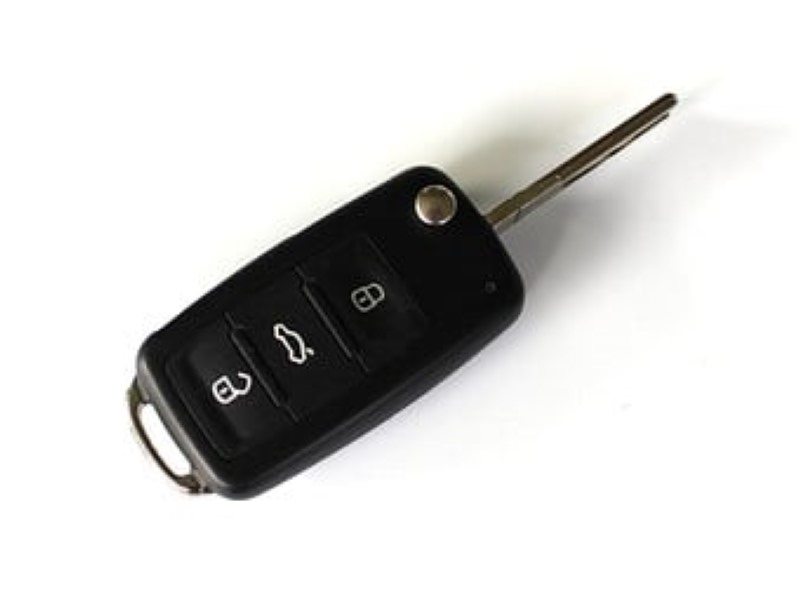carkey: (123, 89, 682, 509)
